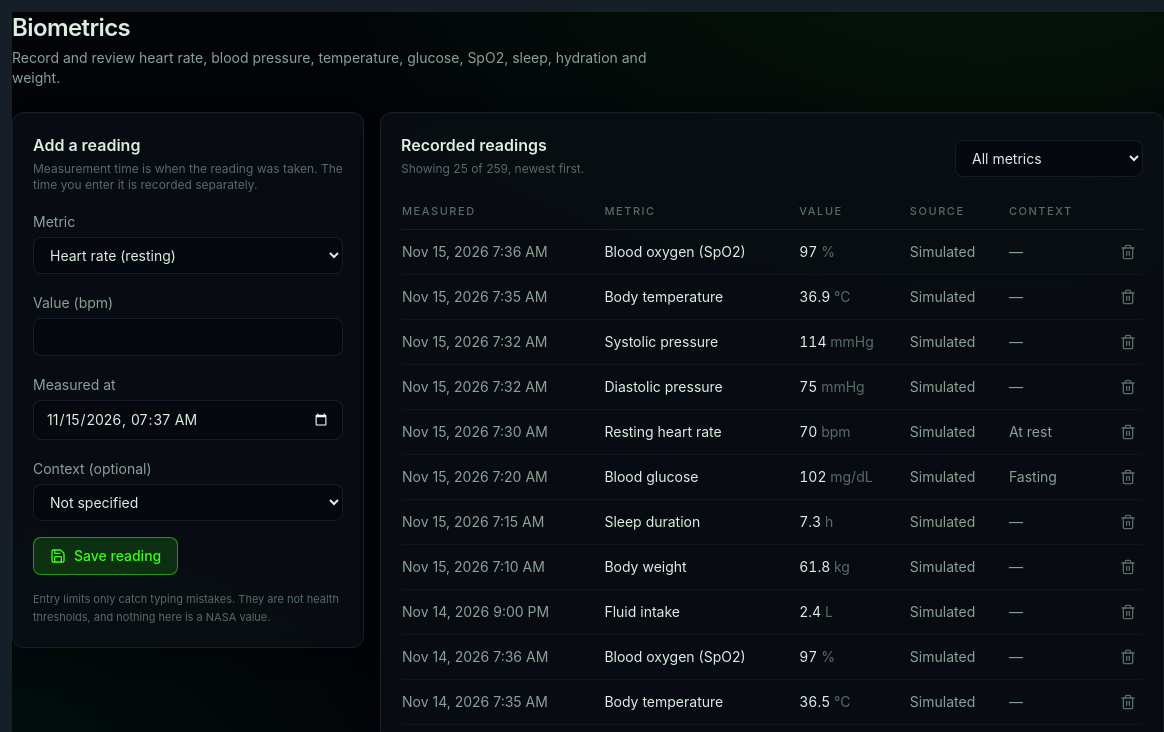
Test: Biometrics page › saves a valid heart-rate reading as a manual entry
Type "64" into the field labelled "Value (bpm)" at (188, 337), box [33,318,343,356]
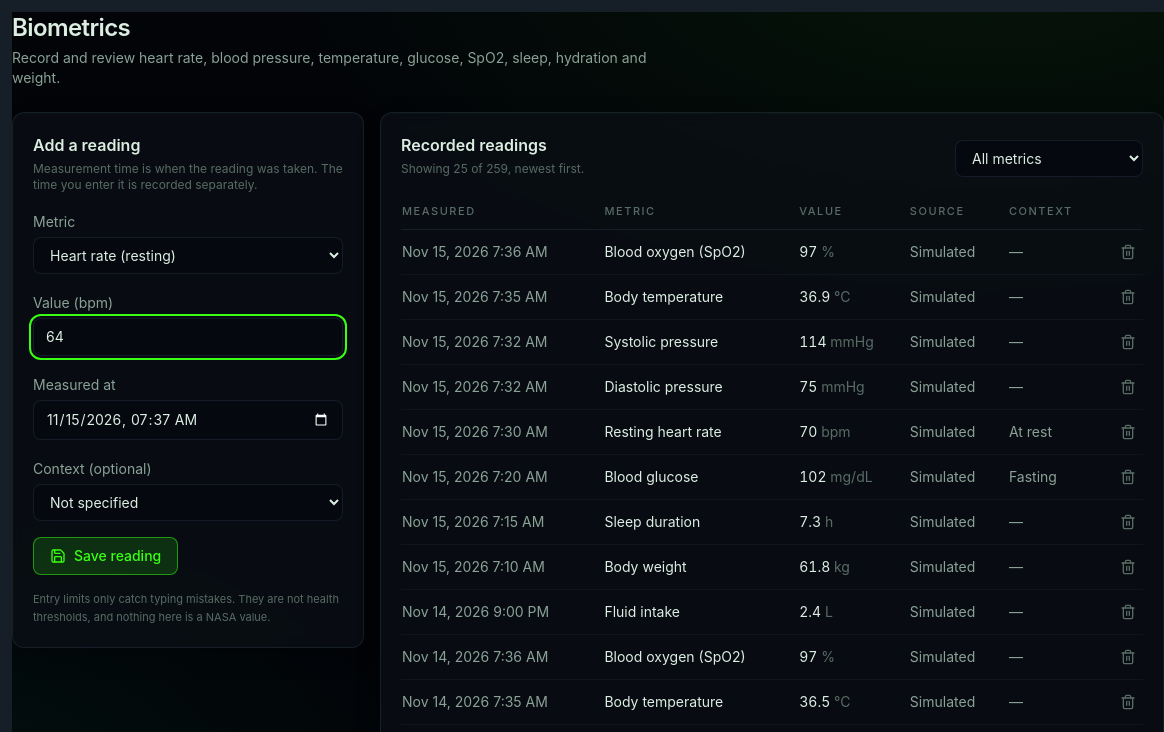
Click the button "Save reading" at (106, 556), box [33,537,178,575]
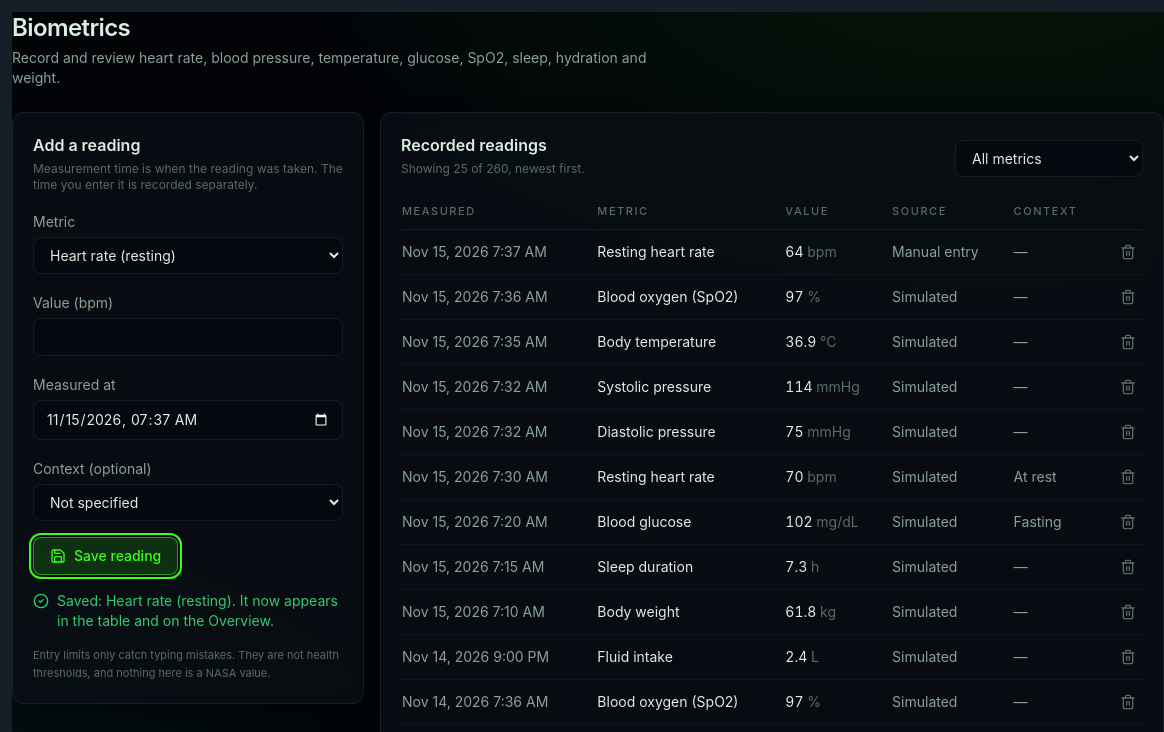
Now the message shows "Saved", box [57,592,338,629]
